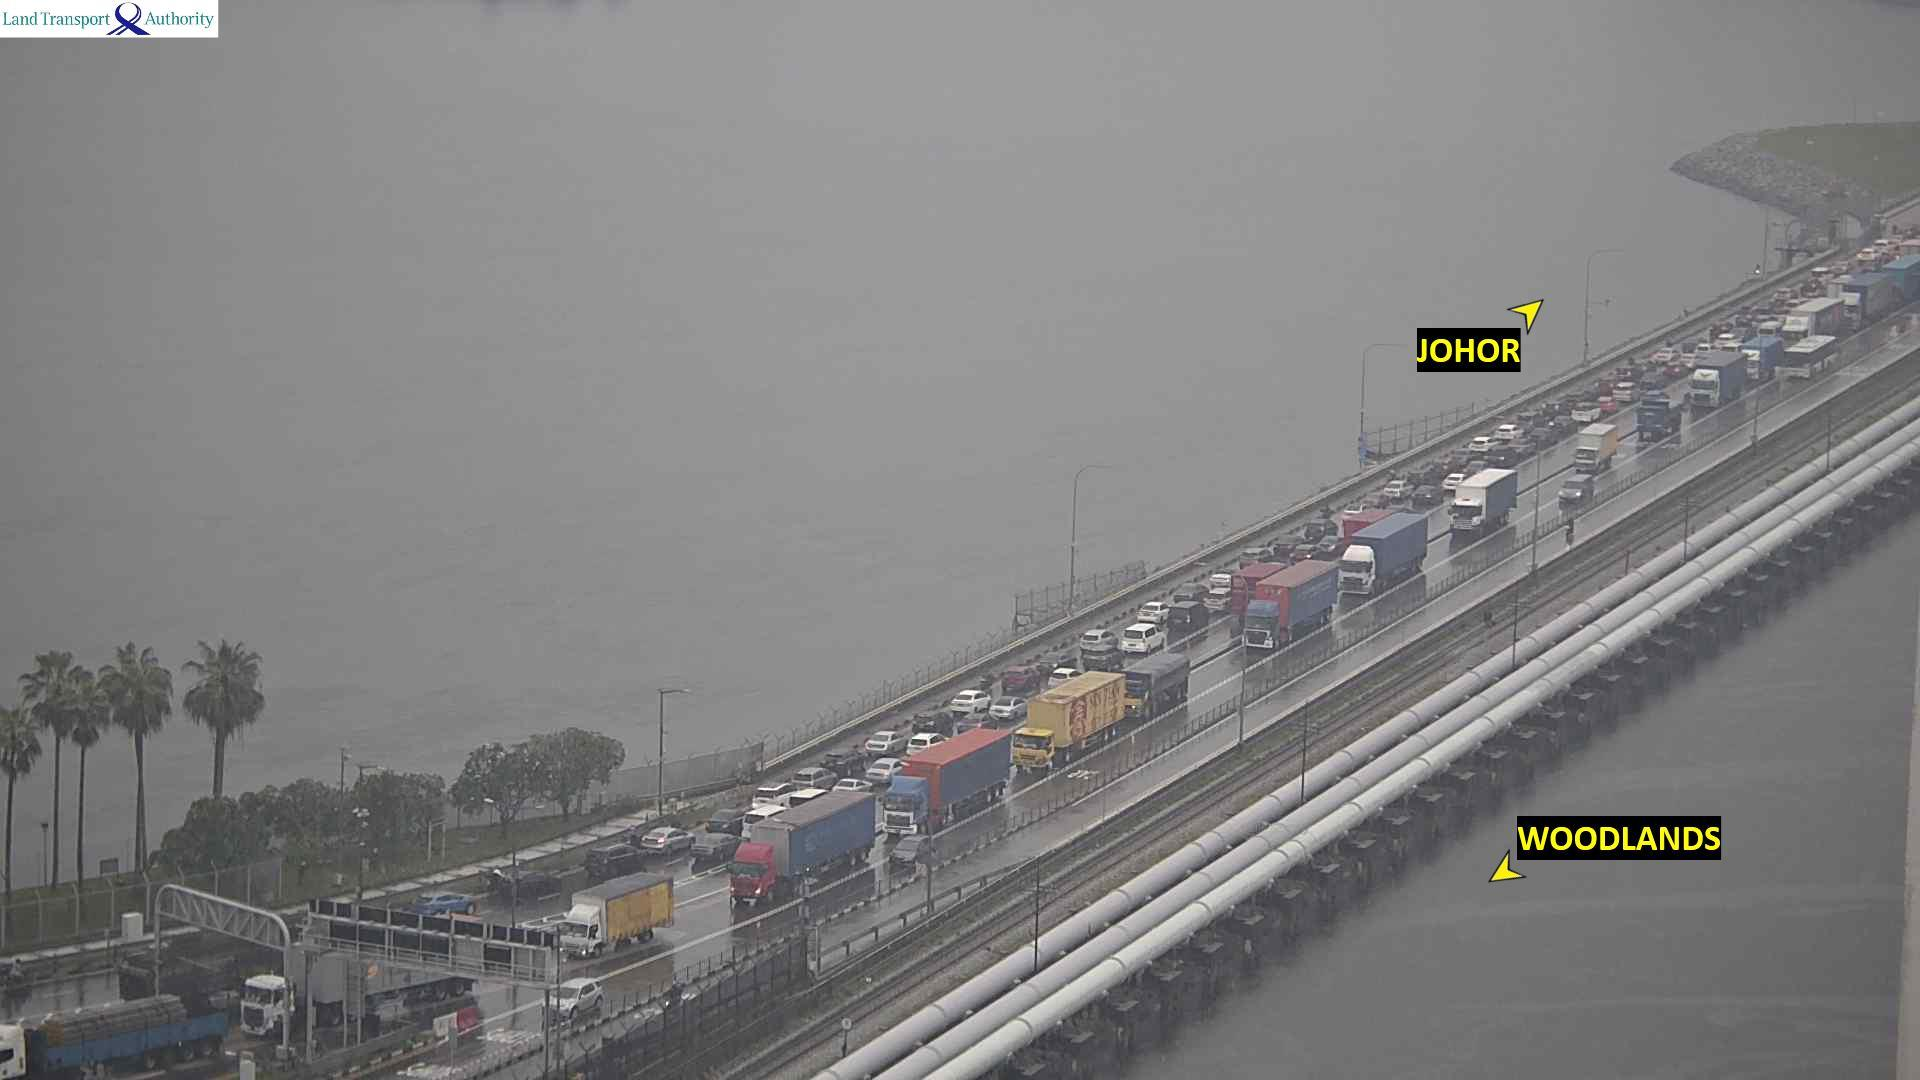vehicle-causeway-johor: (1120, 623, 1171, 653), (1233, 567, 1290, 592), (636, 829, 697, 852), (693, 832, 738, 863), (416, 896, 476, 919), (946, 695, 993, 719), (586, 850, 642, 870), (1341, 512, 1389, 534), (822, 755, 870, 777), (1161, 605, 1204, 629), (1078, 628, 1122, 648), (794, 767, 834, 787), (748, 782, 795, 798), (747, 808, 783, 828), (753, 783, 795, 800), (869, 734, 905, 753), (1570, 406, 1611, 422), (908, 734, 942, 753), (708, 810, 736, 832), (1309, 519, 1336, 538), (1176, 583, 1208, 599), (840, 778, 871, 794), (990, 700, 1021, 716), (1383, 477, 1409, 496), (1572, 402, 1599, 420), (1275, 534, 1299, 553), (1666, 362, 1685, 382), (1416, 487, 1438, 503), (1052, 669, 1077, 683), (1138, 605, 1163, 619), (1469, 437, 1495, 450), (1654, 342, 1675, 358), (1498, 426, 1520, 441), (1209, 592, 1232, 606), (1209, 572, 1230, 587), (1240, 548, 1266, 560), (1615, 387, 1635, 402), (1809, 268, 1829, 280), (1857, 249, 1876, 261)
vehicle-causeway-singapore: (0, 982, 228, 1080), (739, 800, 876, 905), (241, 978, 472, 1033), (884, 731, 1010, 828), (1014, 672, 1121, 765), (562, 875, 675, 954), (1241, 568, 1340, 650), (1353, 521, 1432, 597), (1125, 656, 1195, 716), (1445, 475, 1516, 533), (1688, 363, 1751, 408), (1776, 339, 1836, 380), (544, 977, 602, 1014), (1575, 425, 1615, 471), (1634, 403, 1685, 437), (1794, 304, 1853, 332), (1837, 289, 1880, 318), (1562, 474, 1592, 508), (1777, 314, 1817, 334)
